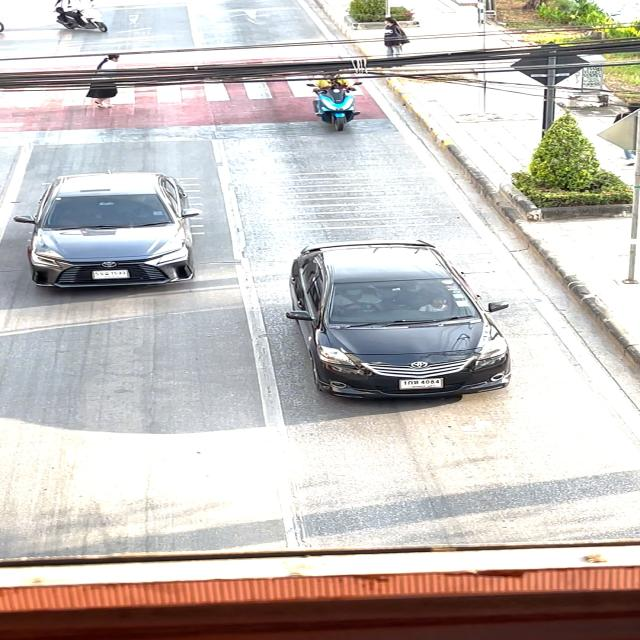car: (274, 227, 532, 408), (11, 165, 208, 305)
